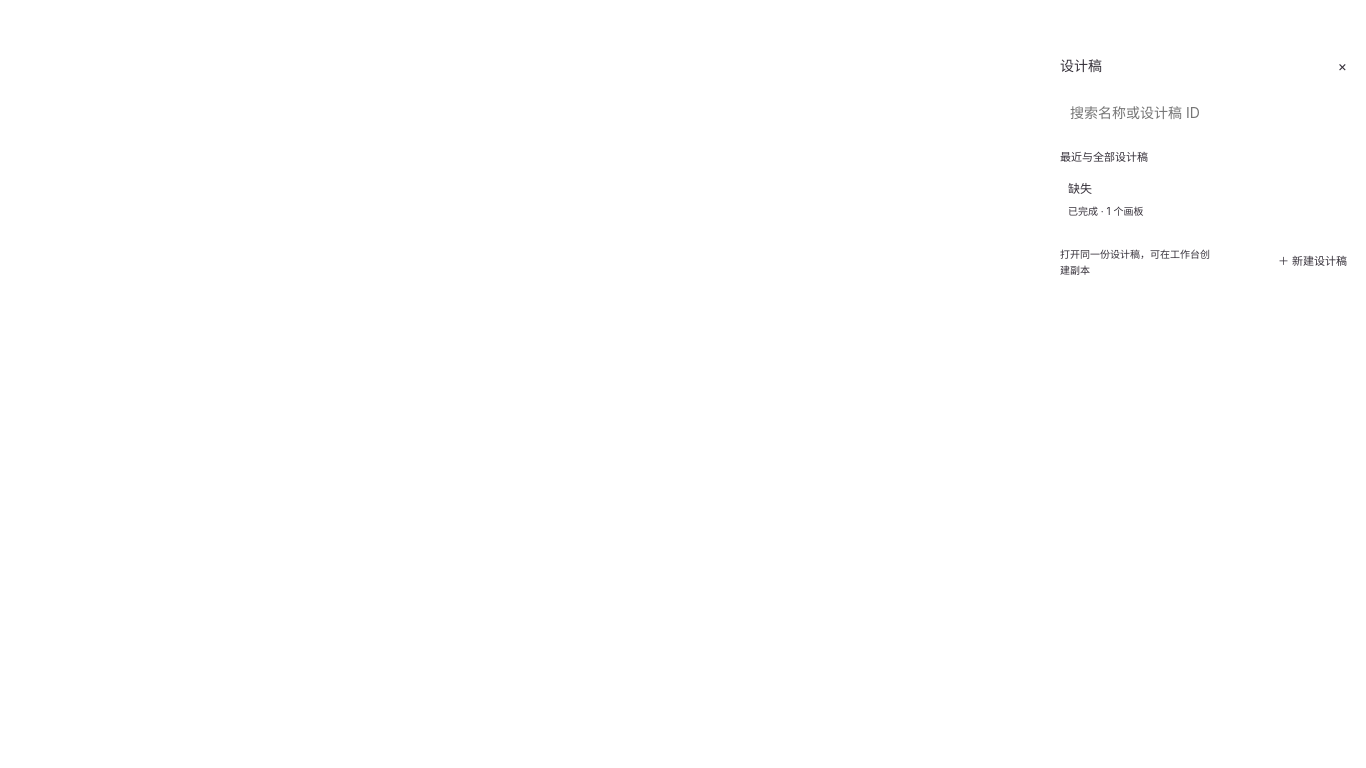
Scenario: keeps a failed id in the picker instead of presenting an openable design
The width and height of the screenshot is (1366, 768).
Click the button "缺失 已完成 · 1 个画板" at point(1106, 211), box [1060,170,1352,228]
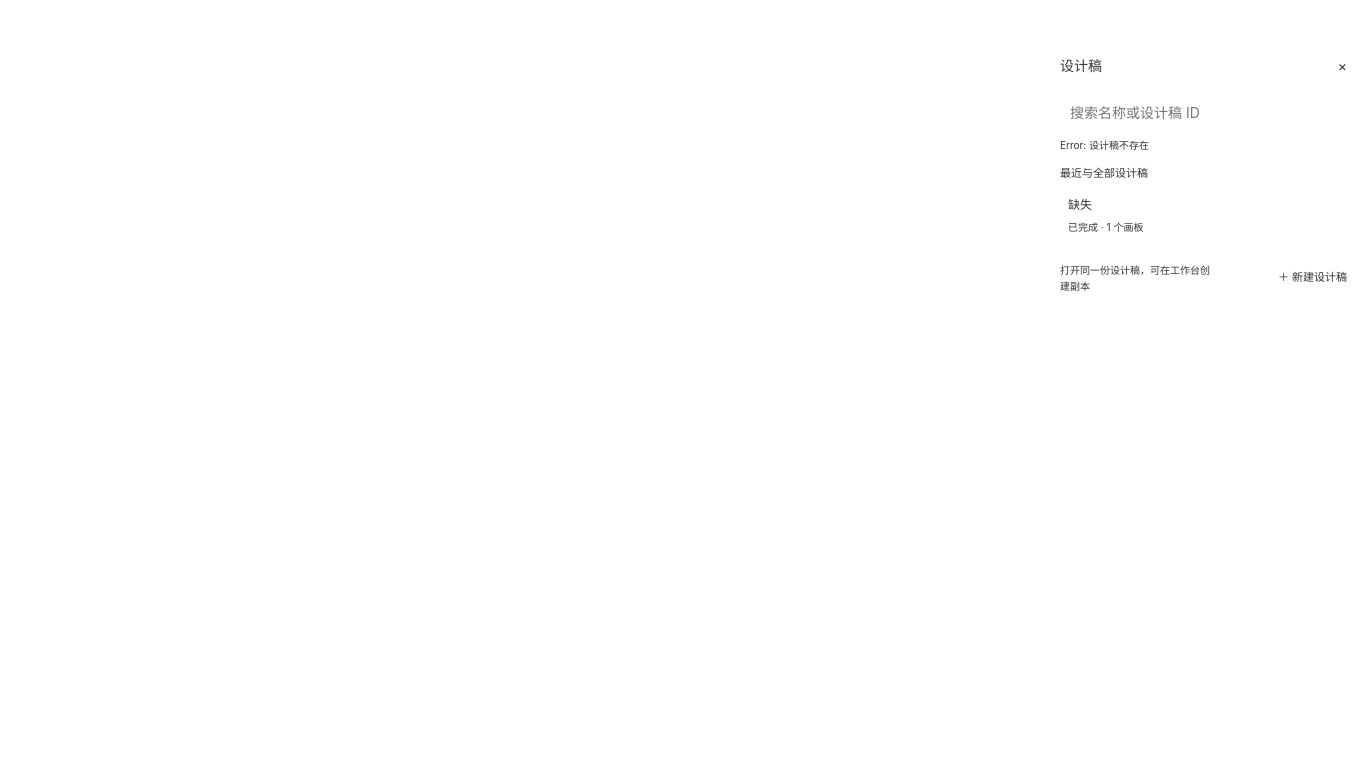
Expected: the text "设计稿不存在" is shown, [1060,139,1149,151]
